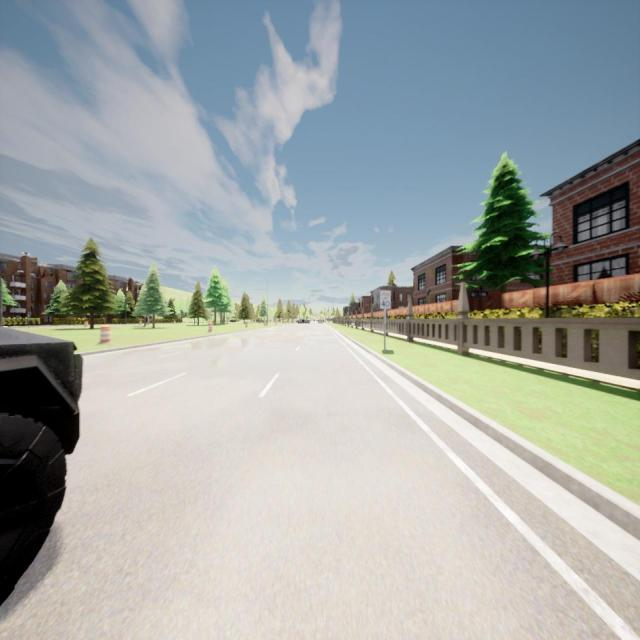Traffic_Signs: (379, 290, 392, 308)
Vehicle: (0, 327, 82, 604), (305, 318, 310, 324), (318, 319, 323, 323), (298, 320, 302, 324), (302, 319, 304, 324)
